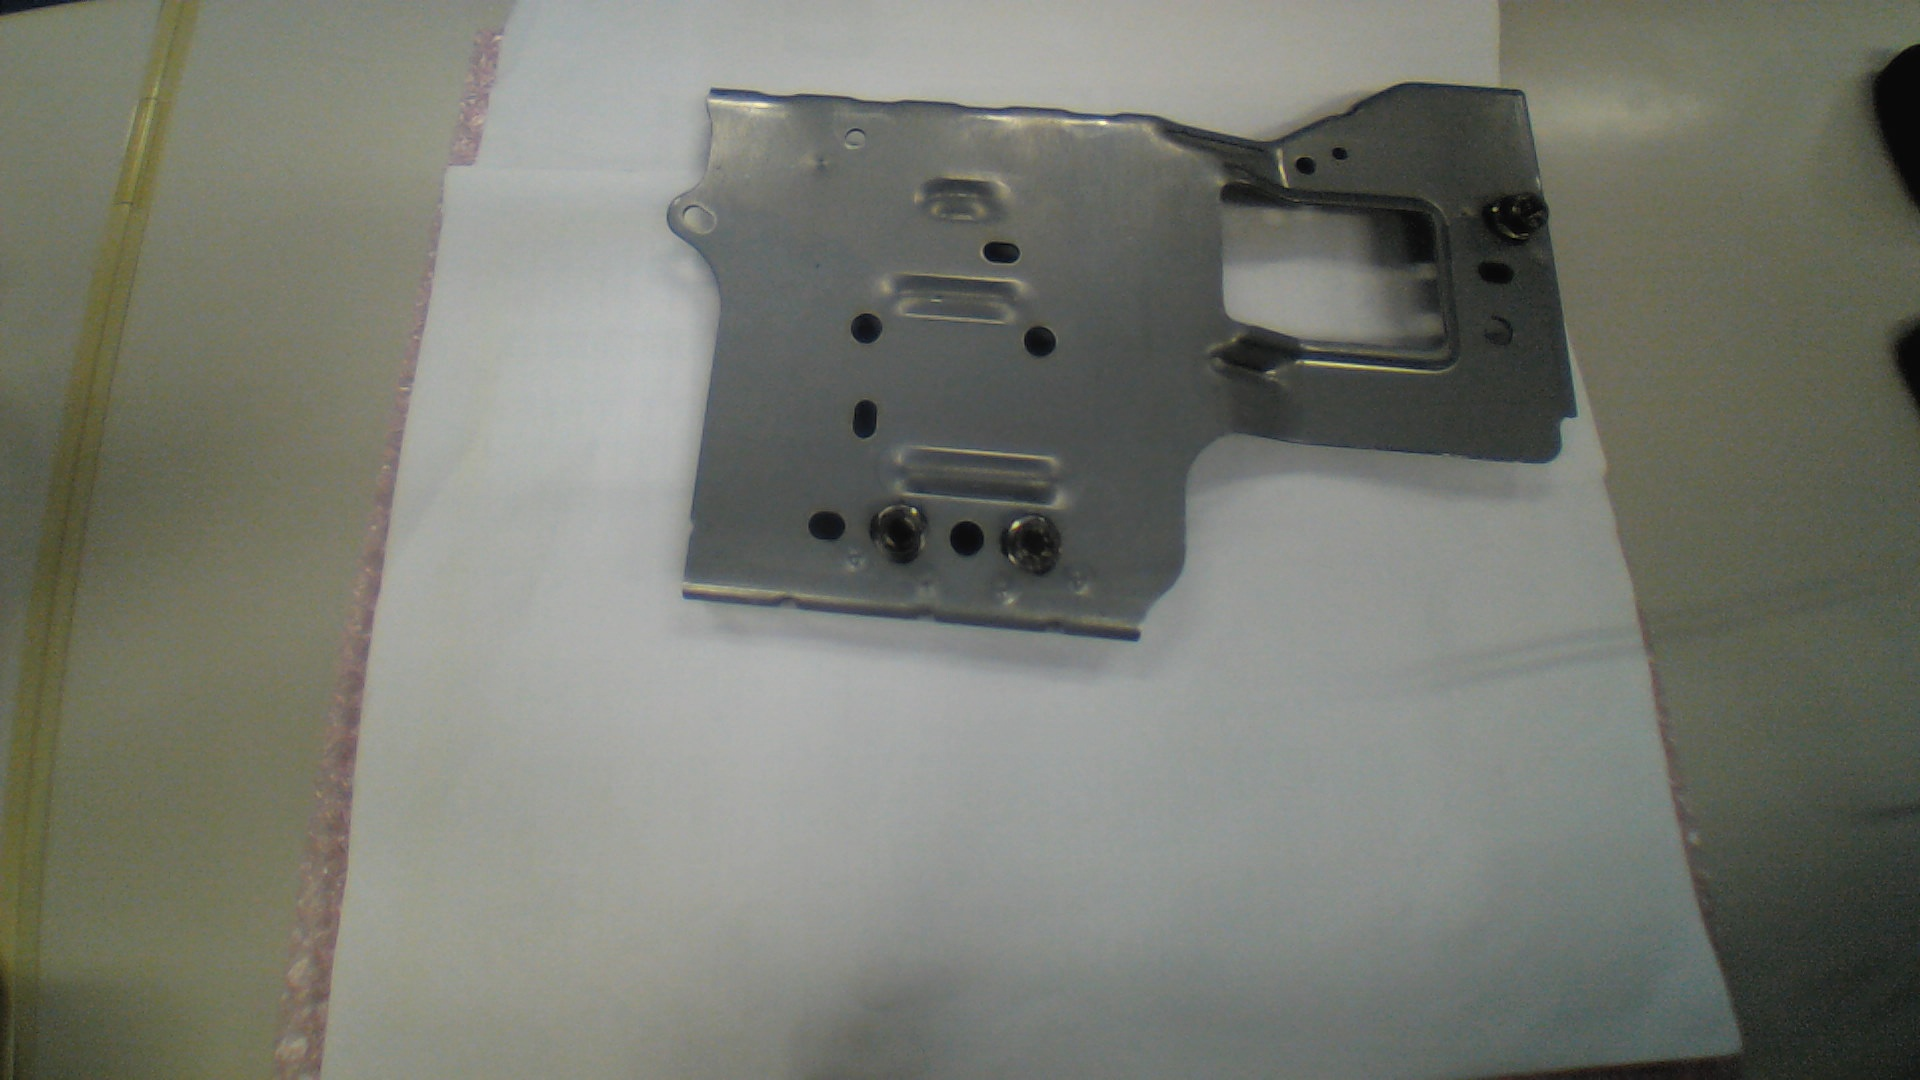dog: (1000, 512, 1065, 575), (868, 502, 934, 564), (1485, 190, 1553, 244)
